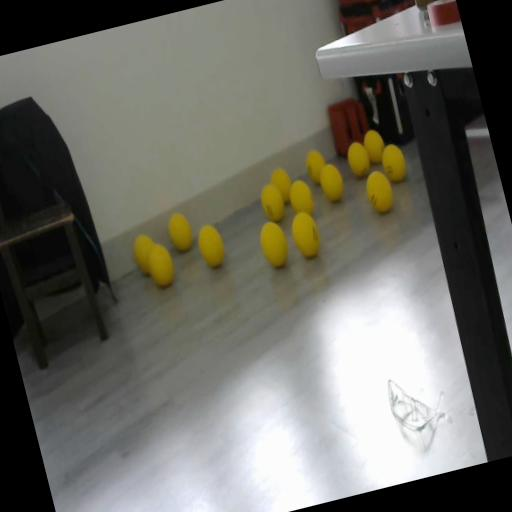FUEL: (254, 217, 293, 271), (286, 208, 324, 262), (142, 238, 178, 290), (193, 220, 229, 270), (361, 168, 397, 216), (378, 141, 410, 184), (286, 178, 318, 220), (316, 161, 347, 204), (165, 210, 196, 253), (344, 139, 374, 180), (360, 126, 389, 166), (268, 166, 296, 206)
